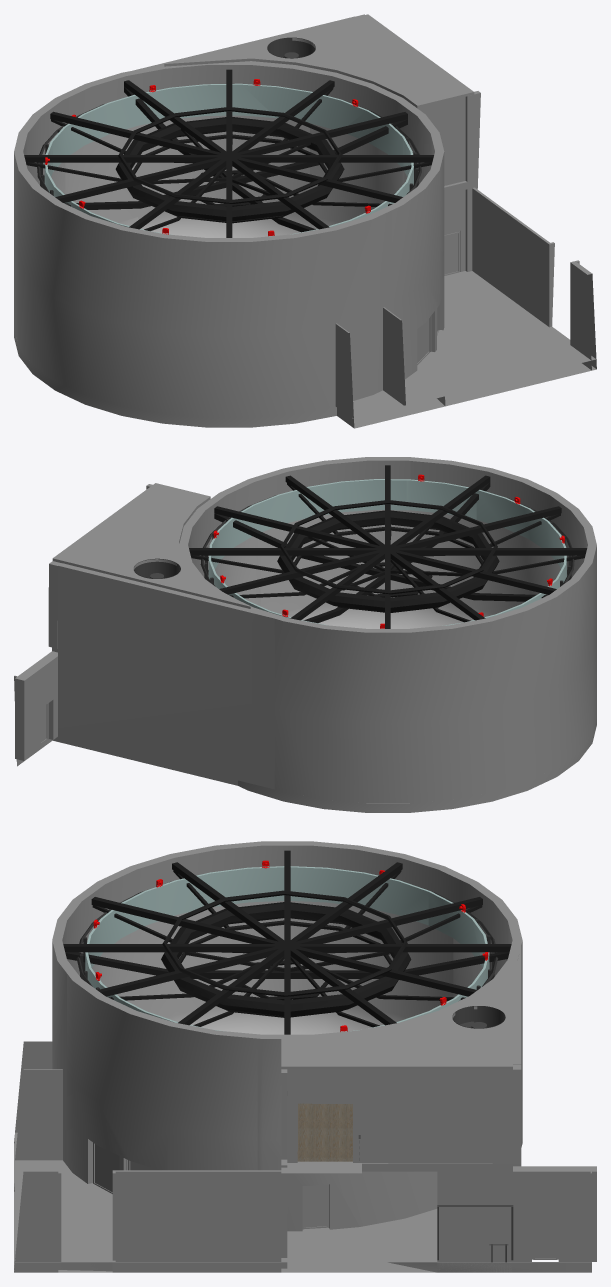
Rendered from Elbedome.fbx.
3 views of the same model, one above another, from view 1: azimuth 30°, elevation 25°; view 2: azimuth 150°, elevation 25°; view 3: azimuth 270°, elevation 25° (orthographic). The views are drawn at different scales.
Parts seen in each view (by area): view 1: ED_Aussenhaut, VDTC_Gebaeude, Projektionsflaeche, Quader004, ED_Aussenhaut_Schnitt, Torus001, Quader110, Quader109, Quader105, Torus007, Quader106, Quader108 (+8 smaller); view 2: ED_Aussenhaut, VDTC_Gebaeude, Projektionsflaeche, Quader004, Projektionsflaeche_Schnitt, Torus001, ED_Aussenhaut_Schnitt, Quader106, Quader105, Quader107, Torus007, Quader108 (+11 smaller); view 3: VDTC_Gebaeude, ED_Aussenhaut_Schnitt, ED_Aussenhaut, Projektionsflaeche, Quader003, Quader004, Torus001, Quader108, Quader107, Quader109, Torus007, Quader112 (+13 smaller).
Part boxes in pixels (bbox=[...]): ED_Aussenhaut: bbox=[14, 61, 426, 417]; VDTC_Gebaeude: bbox=[14, 16, 596, 428]; Projektionsflaeche: bbox=[44, 83, 405, 237]; Quader004: bbox=[164, 14, 474, 108]; ED_Aussenhaut_Schnitt: bbox=[392, 116, 444, 379]; Torus001: bbox=[115, 117, 344, 221]; Quader110: bbox=[24, 155, 433, 162]; Quader109: bbox=[50, 111, 402, 202]; Quader105: bbox=[55, 112, 407, 202]; Torus007: bbox=[118, 107, 342, 203]; Quader106: bbox=[129, 80, 334, 229]; Quader108: bbox=[124, 80, 329, 229]; ED_Aussenhaut: bbox=[179, 458, 596, 803]; VDTC_Gebaeude: bbox=[14, 484, 596, 812]; Projektionsflaeche: bbox=[208, 479, 566, 628]; Quader004: bbox=[52, 483, 250, 608]; Projektionsflaeche_Schnitt: bbox=[256, 479, 410, 628]; Torus001: bbox=[277, 510, 499, 611]; ED_Aussenhaut_Schnitt: bbox=[223, 457, 425, 510]; Quader106: bbox=[189, 548, 587, 555]; Quader105: bbox=[214, 506, 556, 594]; Quader107: bbox=[219, 506, 561, 594]; Torus007: bbox=[280, 500, 497, 594]; Quader108: bbox=[290, 475, 490, 620]; VDTC_Gebaeude: bbox=[14, 946, 596, 1272]; ED_Aussenhaut_Schnitt: bbox=[67, 973, 257, 1193]; ED_Aussenhaut: bbox=[52, 841, 522, 1231]; Projektionsflaeche: bbox=[85, 866, 489, 1034]; Quader003: bbox=[287, 1064, 521, 1163]; Quader004: bbox=[281, 958, 512, 1069]; Torus001: bbox=[161, 902, 411, 1016]; Quader108: bbox=[63, 944, 511, 952]; Quader107: bbox=[91, 897, 477, 996]; Quader109: bbox=[97, 897, 482, 996]; Torus007: bbox=[162, 890, 407, 996]; Quader112: bbox=[65, 952, 509, 978].
Bounding box in the file's own units: 8.65 × 9.19 × 3.59.
12 materials, 1 textured.
